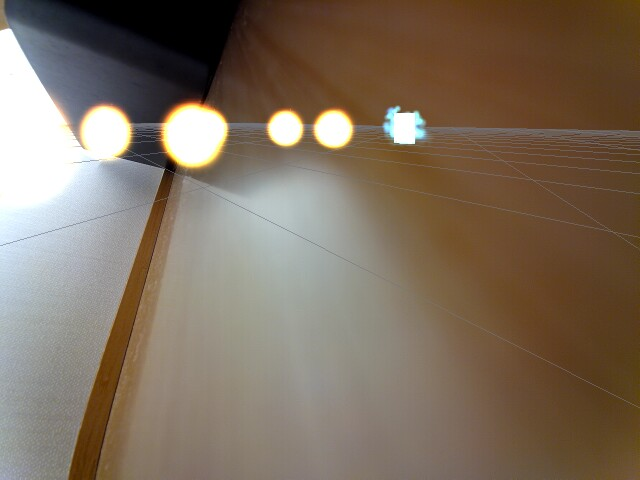fire: (160, 98, 229, 173), (77, 104, 137, 157), (310, 106, 355, 149), (265, 106, 306, 149)
